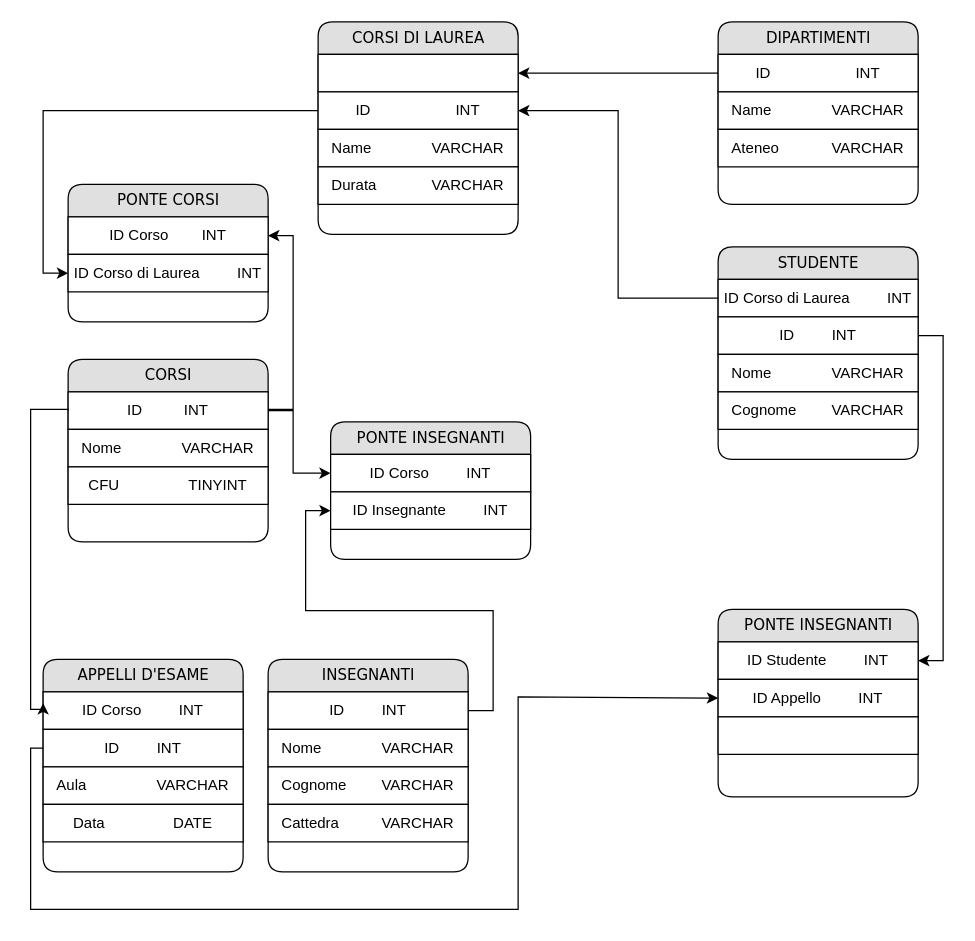
This 975x941 diagram has some shape labels left out. The centre of each missing label's shape, as x and y in pixels:
"ID Dipartimento INT" goes at point (417, 72).
"Voto TINYINT" goes at point (817, 735).
